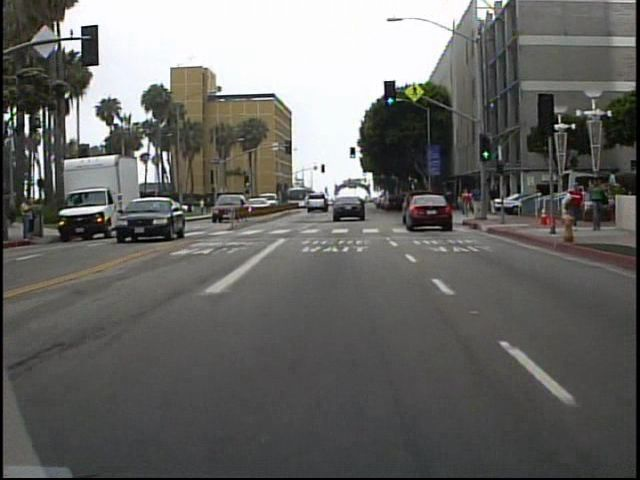person: (21, 195, 39, 241), (458, 188, 473, 219), (488, 181, 501, 215), (471, 185, 481, 202)
